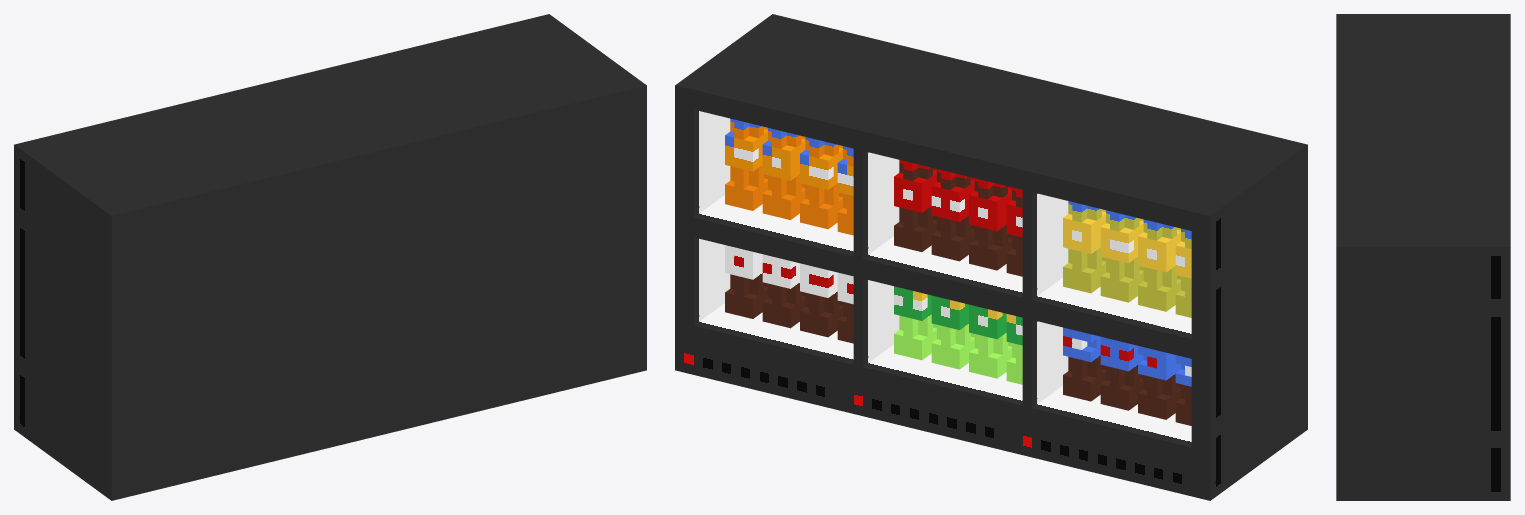
3 renders of one model, left to right at view 1: azimuth 30°, elevation 25°; view 2: azimuth 150°, elevation 25°; view 3: azimuth 270°, elevation 25°, orthographic. The views are drawn at different scales.
Parts seen in each view (by area): view 1: Object; view 2: Object; view 3: Object.
Part boxes in pixels (<box>): Object: <box>14,14,646,500</box>; Object: <box>675,14,1307,500</box>; Object: <box>1336,14,1510,500</box>.
Size of the model in its own units: 57 by 29 by 18.
1 material, 1 textured.
